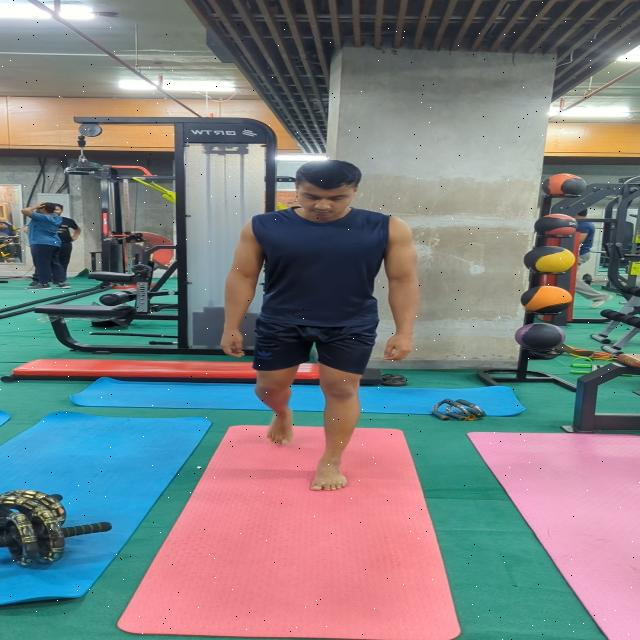Normal_Lunges: (216, 155, 428, 499)
